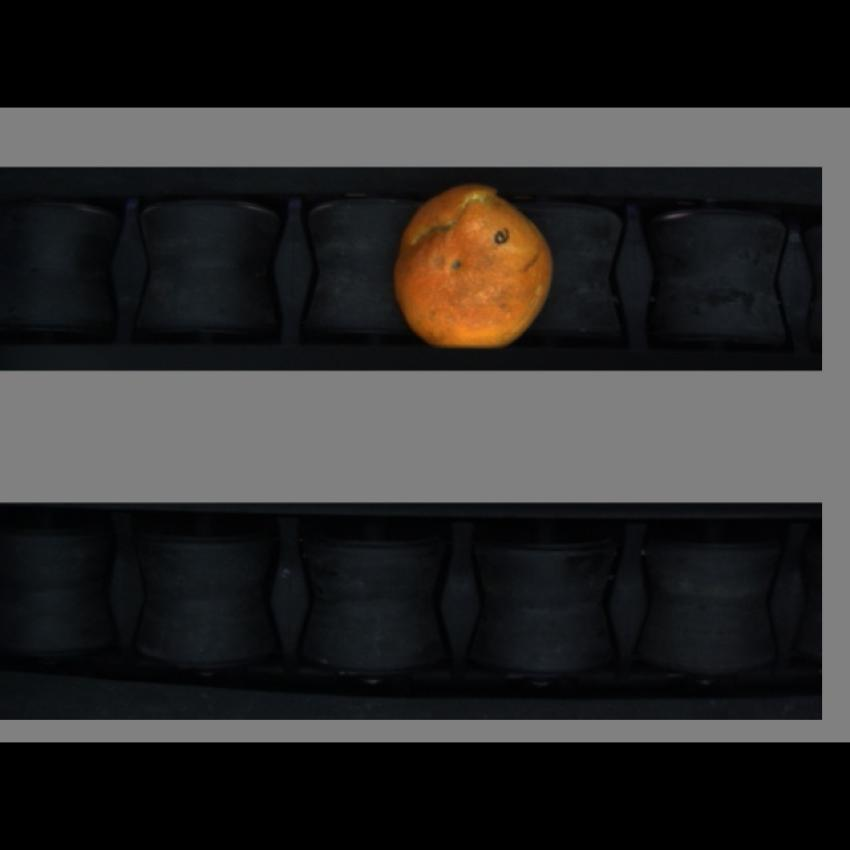Mal estado: (386, 176, 556, 353)
